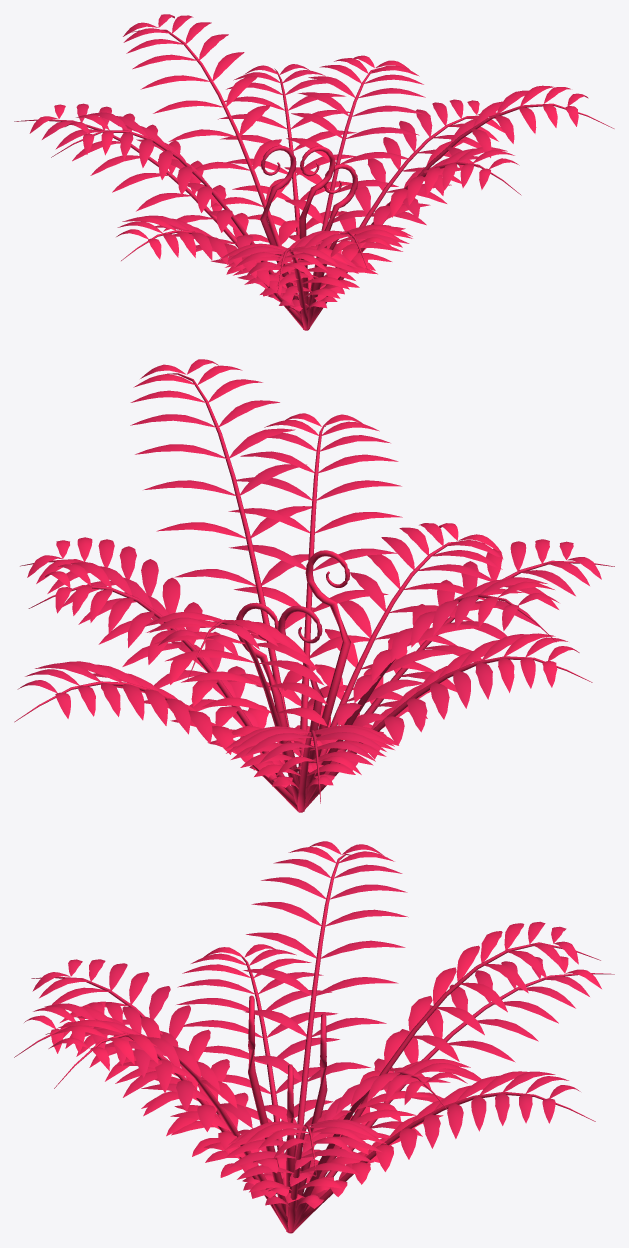
File: SM_LW_FernRosette.fbx
The picture shows the model from 3 angles, top to bottom: view 1: azimuth 30°, elevation 25°; view 2: azimuth 150°, elevation 25°; view 3: azimuth 270°, elevation 25°; orthographic projection. The views are drawn at different scales.
Visible parts, largest first — view 1: SM_LW_FernRosette; view 2: SM_LW_FernRosette; view 3: SM_LW_FernRosette.
Boxes of the visible parts, bbox=[...] form: SM_LW_FernRosette: bbox=[14, 14, 614, 330]; SM_LW_FernRosette: bbox=[14, 359, 614, 812]; SM_LW_FernRosette: bbox=[14, 841, 614, 1233].
Bounding box in the file's own units: 118 × 118 × 63.66.
